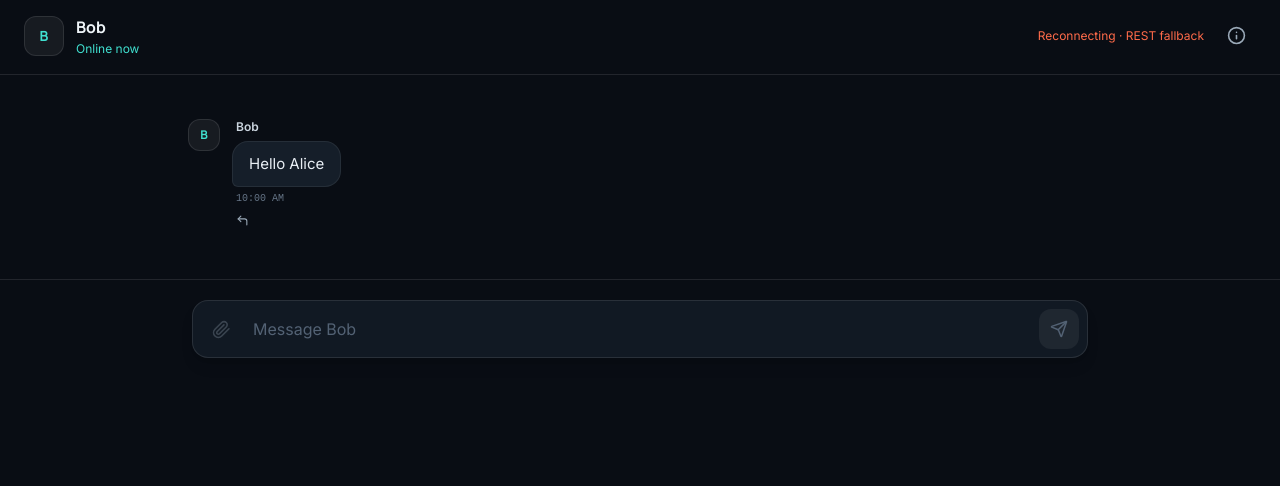
Test case: chat controls › retries a failed send with the same idempotency key
Check: the text "Hello Alice" is shown, box top-left (232, 141), bottom-right (341, 187)
Type "Retry safely" into the text box labelled "Message" at [640, 329], box top-left (249, 309), bottom-right (1031, 349)
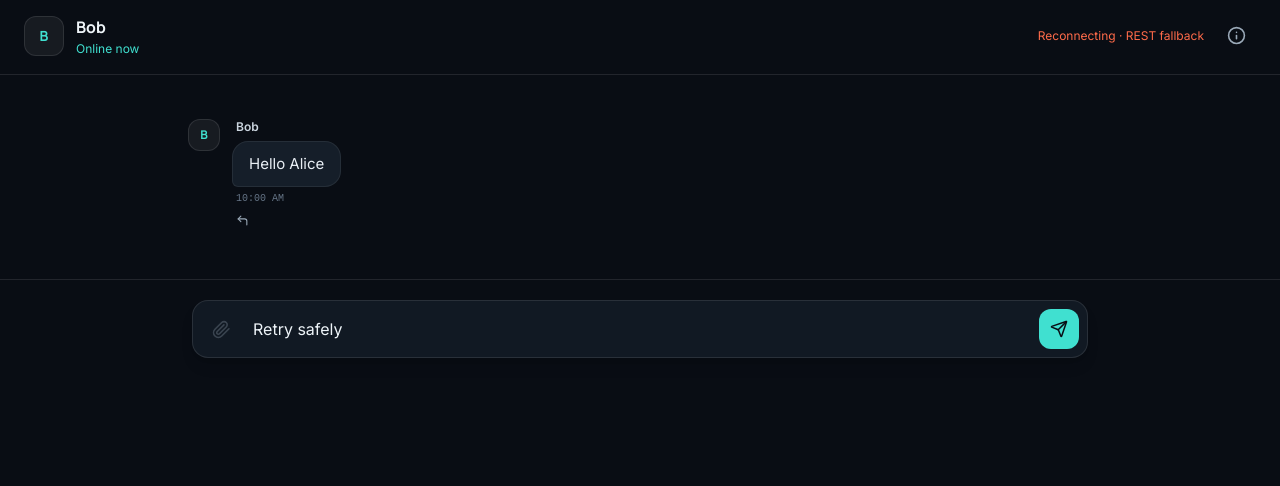
Click the button named "Send message" at [1059, 329], box top-left (1039, 309), bottom-right (1079, 349)
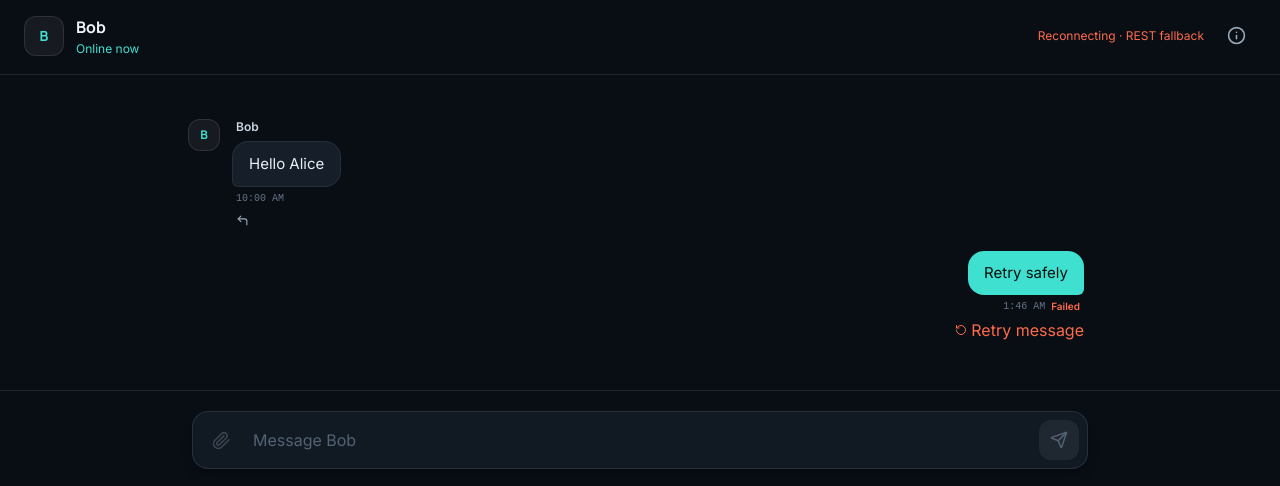
Check: the text "Failed" is shown, box top-left (1051, 299), bottom-right (1080, 314)
Click the button "Retry message" at [1020, 330], box top-left (955, 318), bottom-right (1084, 342)
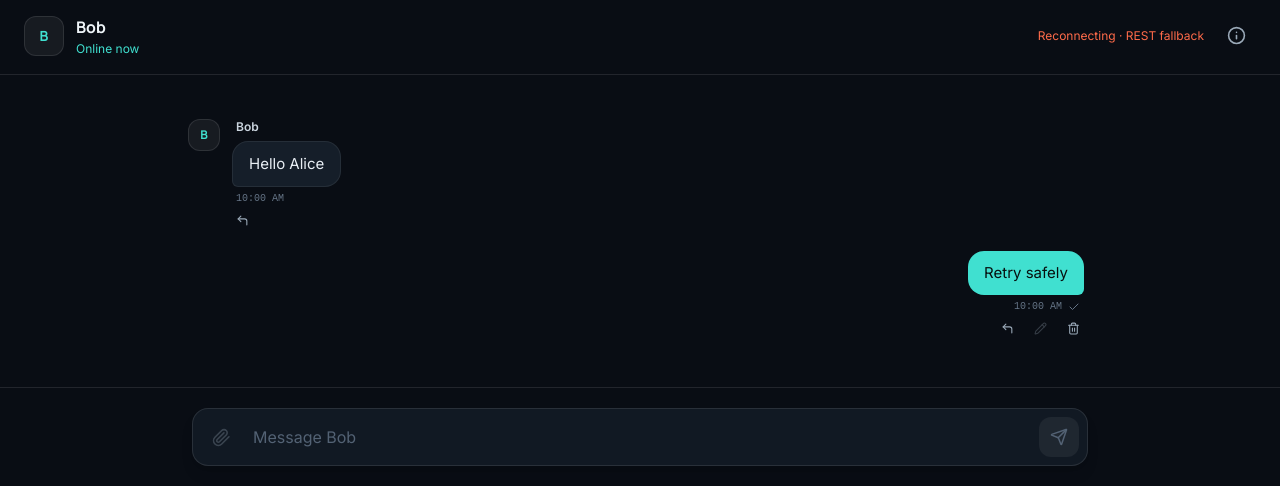
Check: the text "Retry safely" is shown once, box top-left (968, 251), bottom-right (1084, 295)
Check: the text "Failed" is gone
